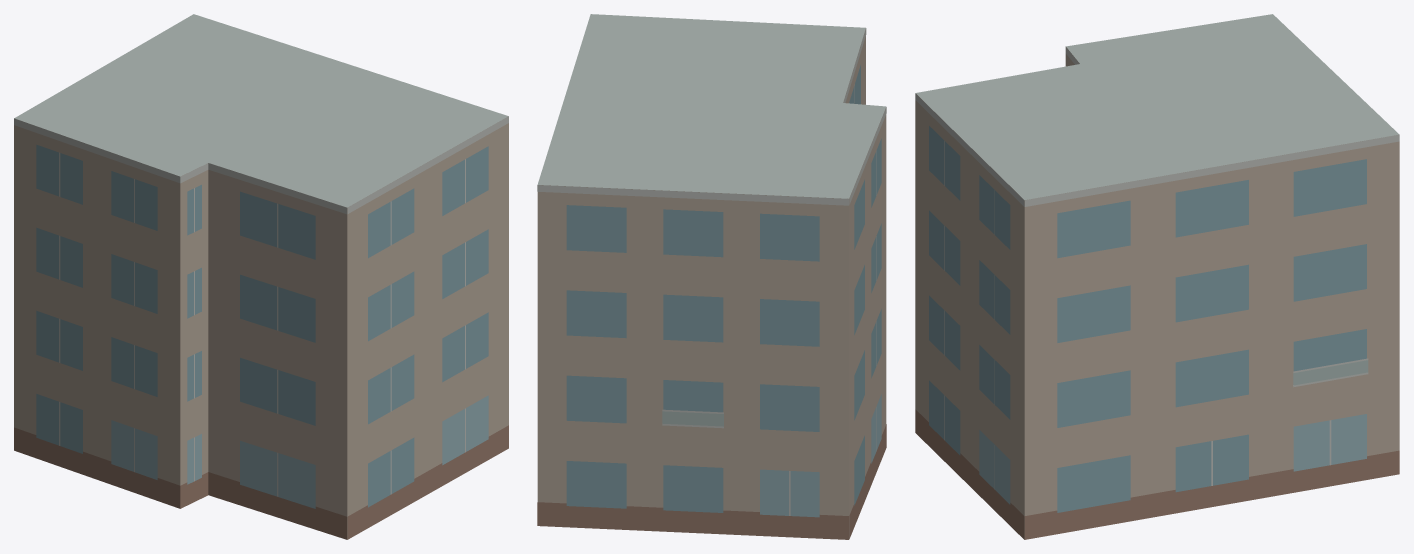
File: survey-upis-32853810.glb
The picture shows the model from 3 angles, left to right: view 1: azimuth 30°, elevation 25°; view 2: azimuth 150°, elevation 25°; view 3: azimuth 270°, elevation 25°; orthographic projection. The views are drawn at different scales.
Parts seen in each view (by area): view 1: survey-upis-32853810.tmp; view 2: survey-upis-32853810.tmp; view 3: survey-upis-32853810.tmp.
Part boxes in pixels (<box>): survey-upis-32853810.tmp: <box>14,14,508,539</box>; survey-upis-32853810.tmp: <box>537,14,886,539</box>; survey-upis-32853810.tmp: <box>915,14,1399,539</box>.
Size of the model in its own units: 14.12 by 12 by 15.52.
